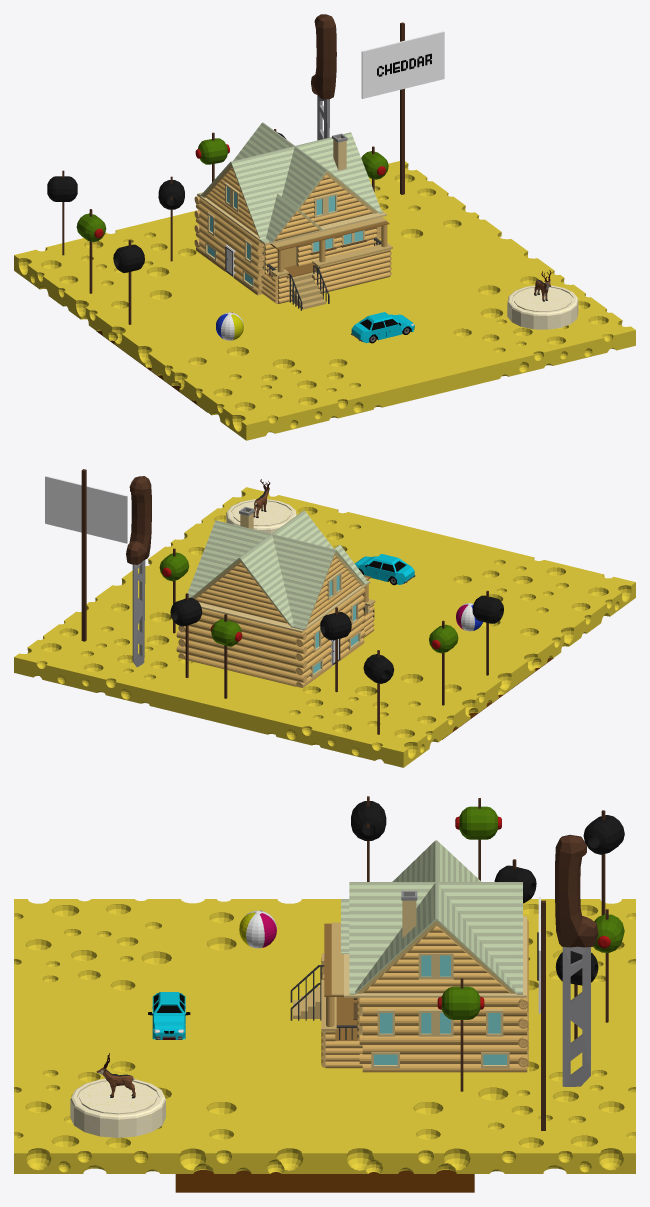
3 views of the same model, one above another, from view 1: azimuth 30°, elevation 25°; view 2: azimuth 150°, elevation 25°; view 3: azimuth 270°, elevation 25° (orthographic). The views are drawn at different scales.
Parts seen in each view (by area): view 1: Cube.022, Cube.1516, Cube.023, Cylinder.016, Cube.024, VEHICLES_CAR, Sphere.017, Sphere.016, Sphere.018, Sphere.020, Sphere.022, OBJRANDOM_BEACHBALL (+1 smaller); view 2: Cube.022, Cube.1516, Cube.023, Cube.024, Cylinder.016, VEHICLES_CAR, Sphere.021, Sphere.022, Sphere.020, Sphere.017, Sphere.016, Sphere.018 (+2 smaller); view 3: Cube.022, Cube.1516, Cube.024, UNDERGROUND_ART_PIECE_VAN_GOGH, Cylinder.016, VEHICLES_CAR, Sphere.019, Sphere.016, Cube.023, Sphere.018, Sphere.017, Sphere.022 (+3 smaller).
Boxes of the visible parts, x1,y1,x2,y2 form: Cube.022: (14, 161, 635, 440); Cube.1516: (194, 122, 392, 310); Cube.023: (361, 22, 444, 194); Cylinder.016: (507, 285, 578, 329); Cube.024: (311, 14, 336, 140); VEHICLES_CAR: (351, 312, 414, 343); Sphere.017: (113, 240, 144, 324); Sphere.016: (47, 170, 77, 255); Sphere.018: (76, 209, 106, 293); Sphere.020: (158, 176, 184, 261); Sphere.022: (195, 132, 229, 181); OBJRANDOM_BEACHBALL: (216, 312, 243, 340); Cube.022: (14, 487, 635, 767); Cube.1516: (176, 506, 375, 687); Cube.023: (45, 469, 127, 641); Cube.024: (126, 476, 151, 667); Cylinder.016: (226, 499, 296, 533); VEHICLES_CAR: (355, 554, 415, 585); Sphere.021: (170, 593, 202, 677); Sphere.022: (210, 614, 242, 698); Sphere.020: (320, 607, 351, 692); Sphere.017: (472, 590, 503, 675); Sphere.016: (363, 650, 394, 734); Sphere.018: (429, 620, 458, 705); Cube.022: (14, 899, 635, 1173); Cube.1516: (290, 840, 528, 1072); Cube.024: (555, 834, 598, 1086); UNDERGROUND_ART_PIECE_VAN_GOGH: (175, 1170, 474, 1192); Cylinder.016: (70, 1079, 165, 1137); VEHICLES_CAR: (148, 992, 190, 1039); Sphere.019: (437, 978, 484, 1091); Sphere.016: (583, 810, 624, 915); Cube.023: (537, 897, 545, 1130); Sphere.018: (455, 798, 501, 880); Sphere.017: (351, 796, 386, 881); Sphere.022: (593, 909, 624, 1022).
Bounding box in the file's own units: 3917 × 2132 × 4000.
42 materials, 5 textured.
